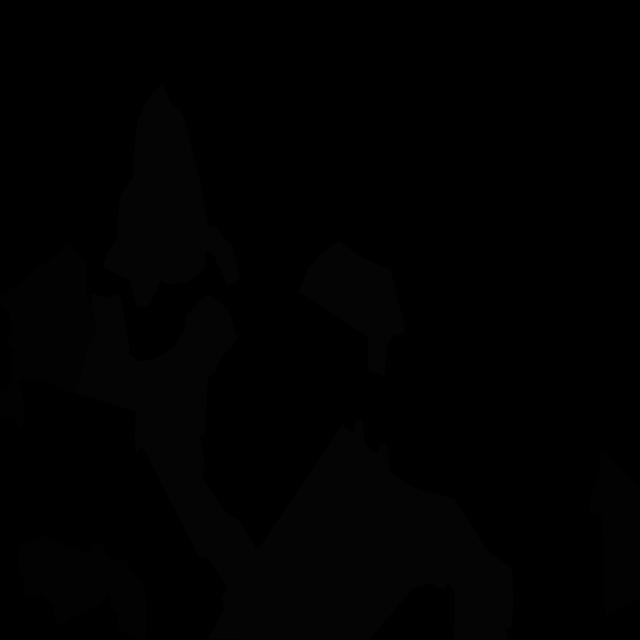cardboard: (0, 243, 98, 429), (18, 535, 148, 640), (588, 452, 640, 618)
soft_plastic: (75, 293, 258, 640), (245, 420, 514, 640), (103, 83, 240, 308), (299, 241, 405, 376)
